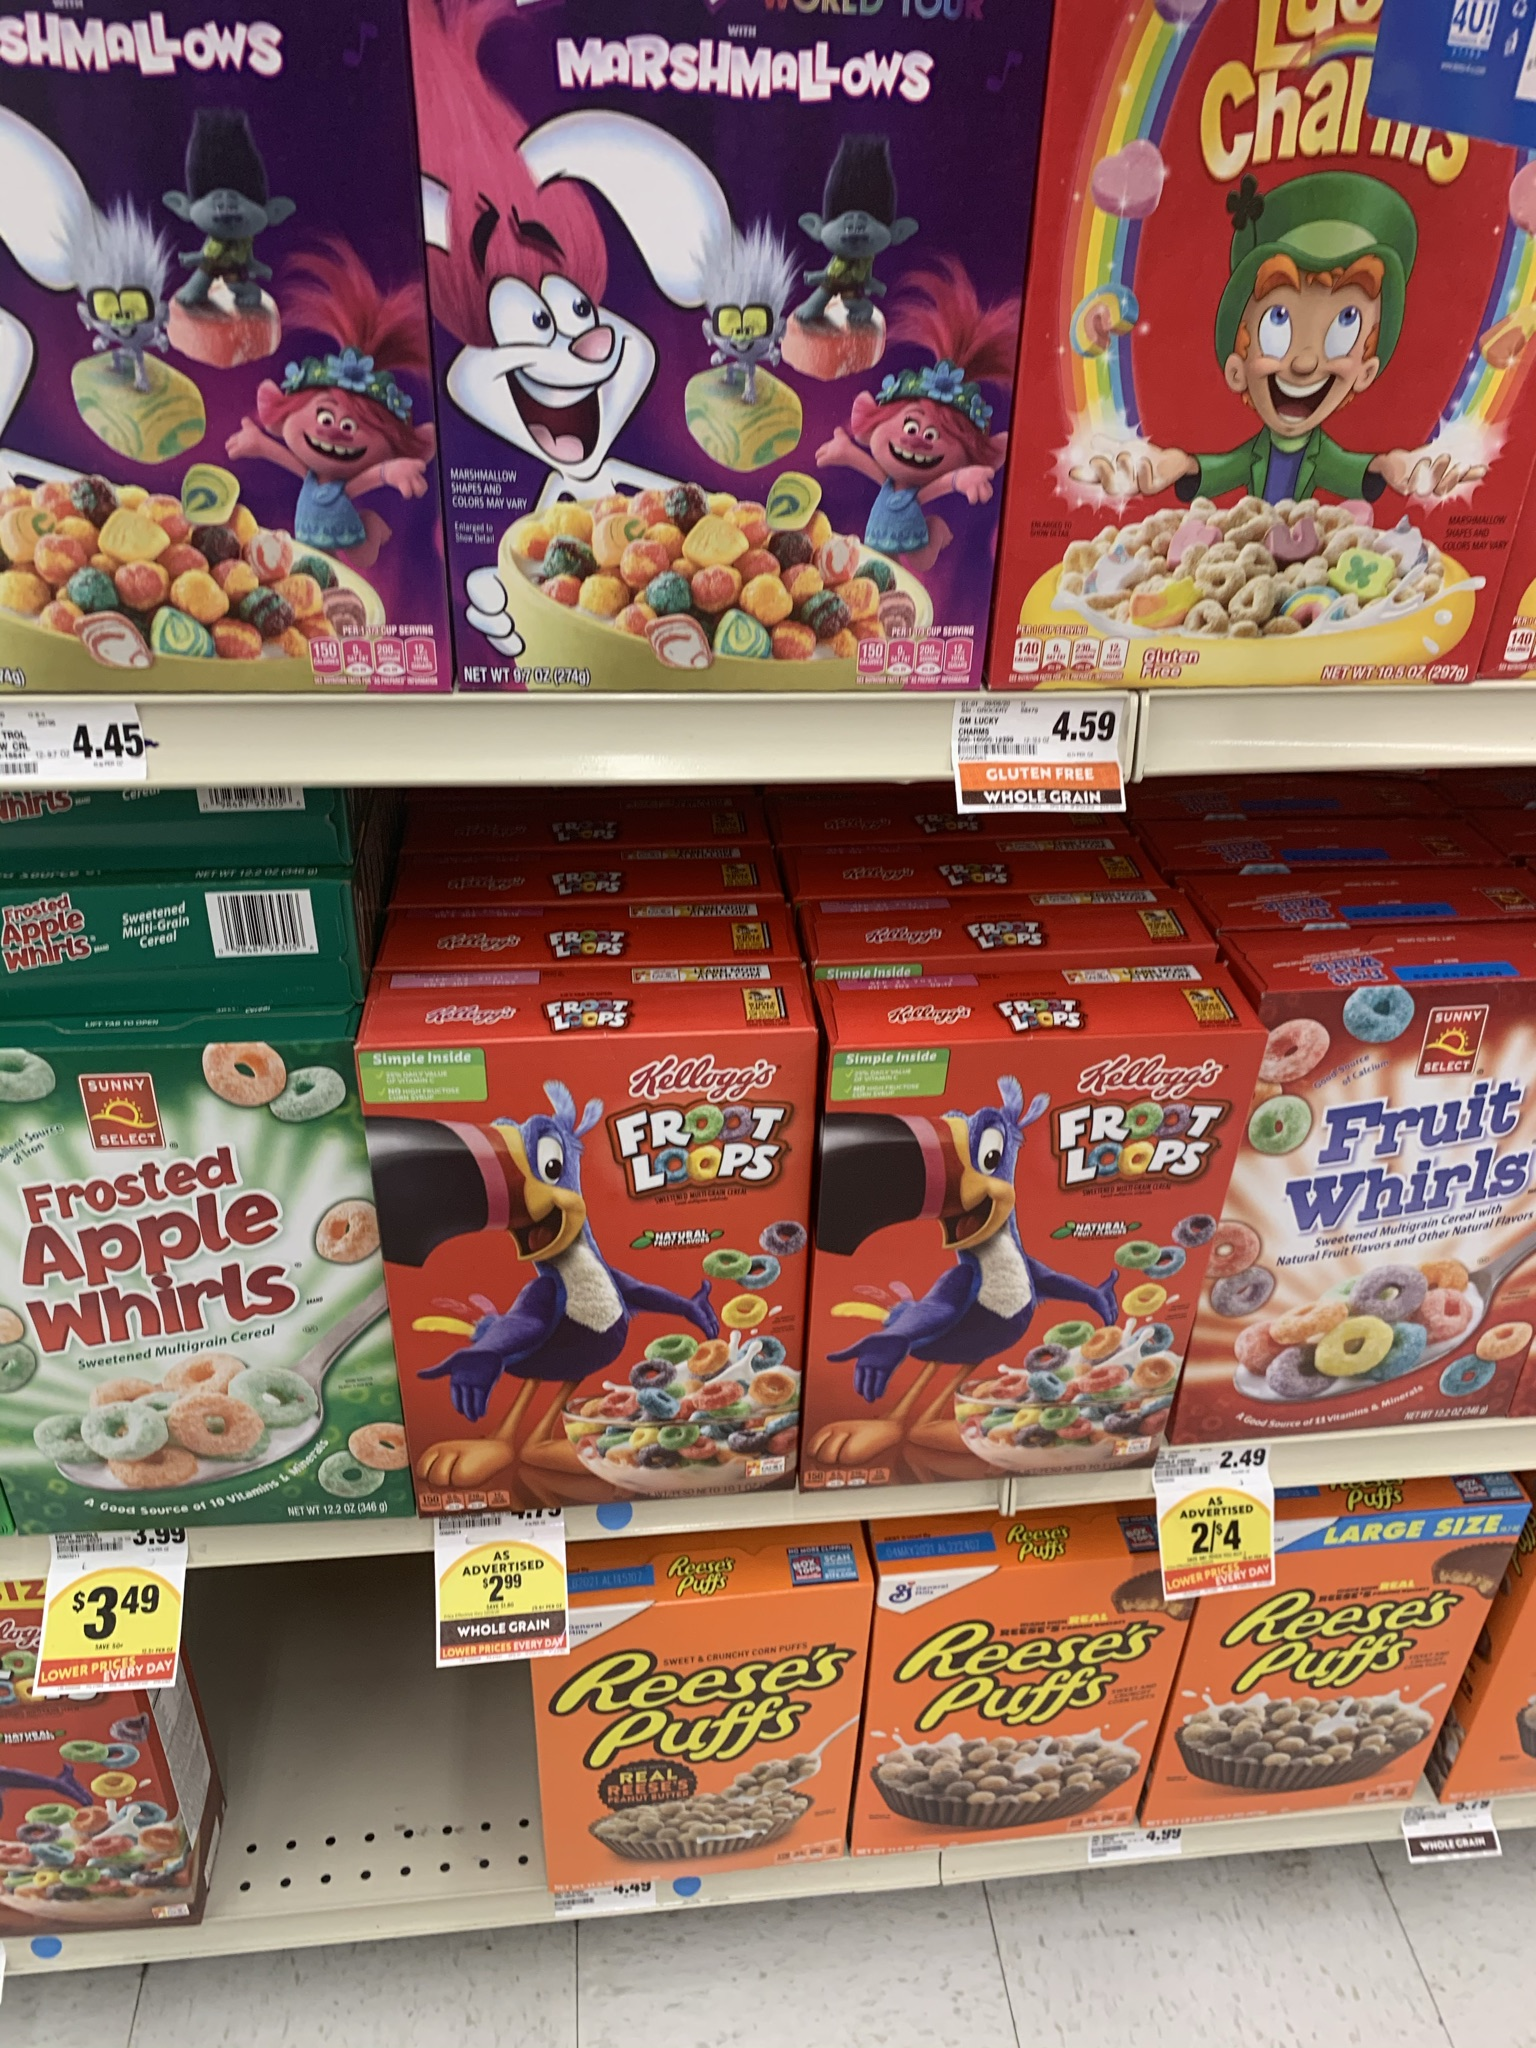box: (457, 2, 979, 685), (2, 2, 411, 689), (397, 1068, 791, 1479), (2, 1071, 342, 1517), (854, 1064, 1165, 1471), (1279, 1026, 1536, 1417), (563, 1655, 849, 1853), (897, 1614, 1144, 1827), (1226, 1596, 1418, 1798)
